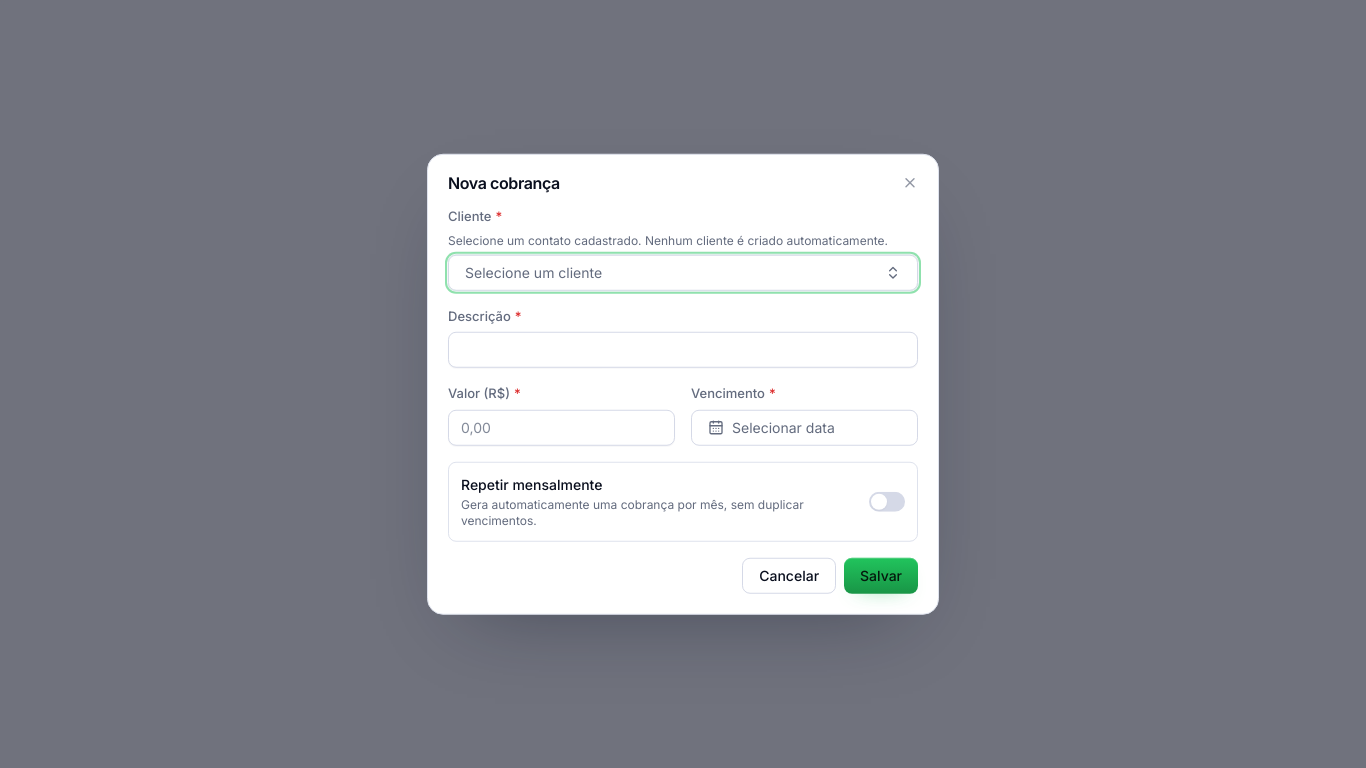
Test case: ChargeForm clients › handles an empty client list
Click the dropdown at [534, 272], box [448, 254, 918, 290]
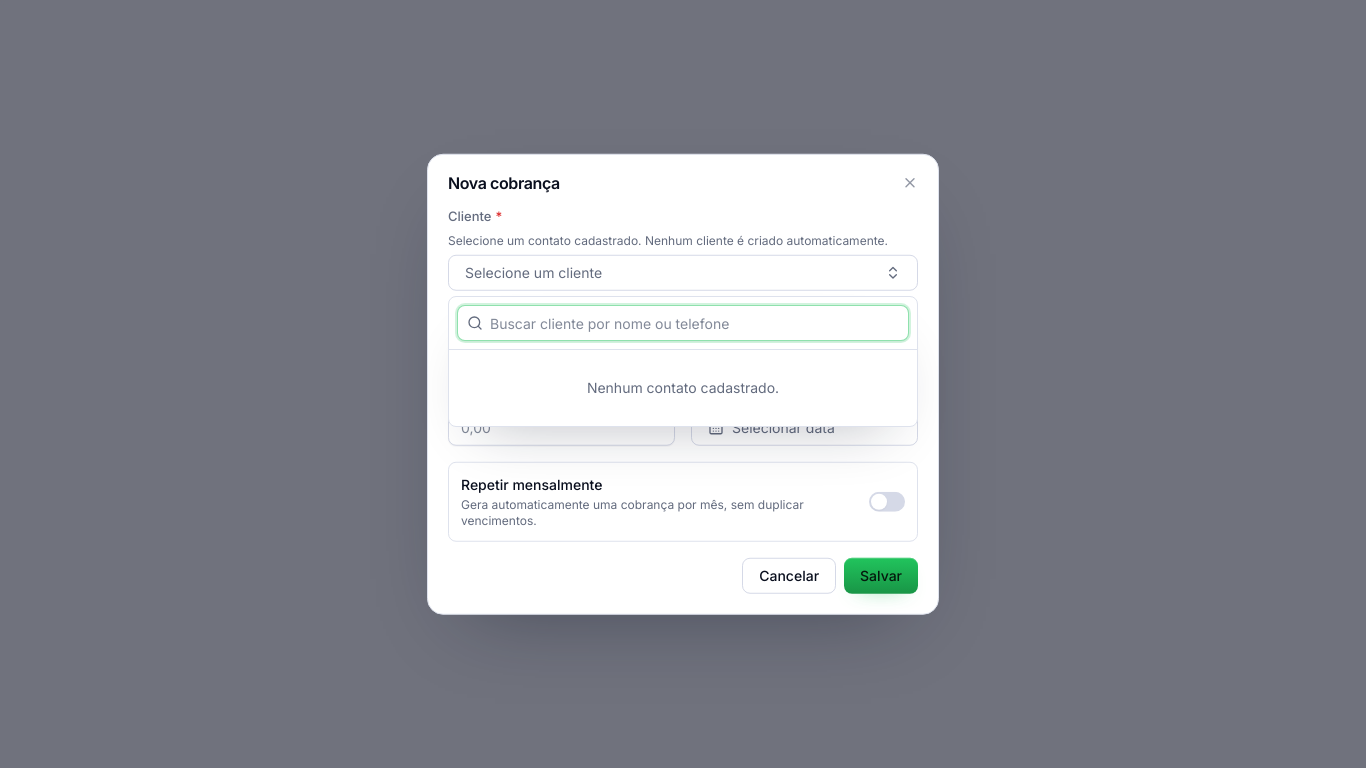
Expected: the text "Nenhum contato cadastrado." is shown, [587, 379, 779, 396]
